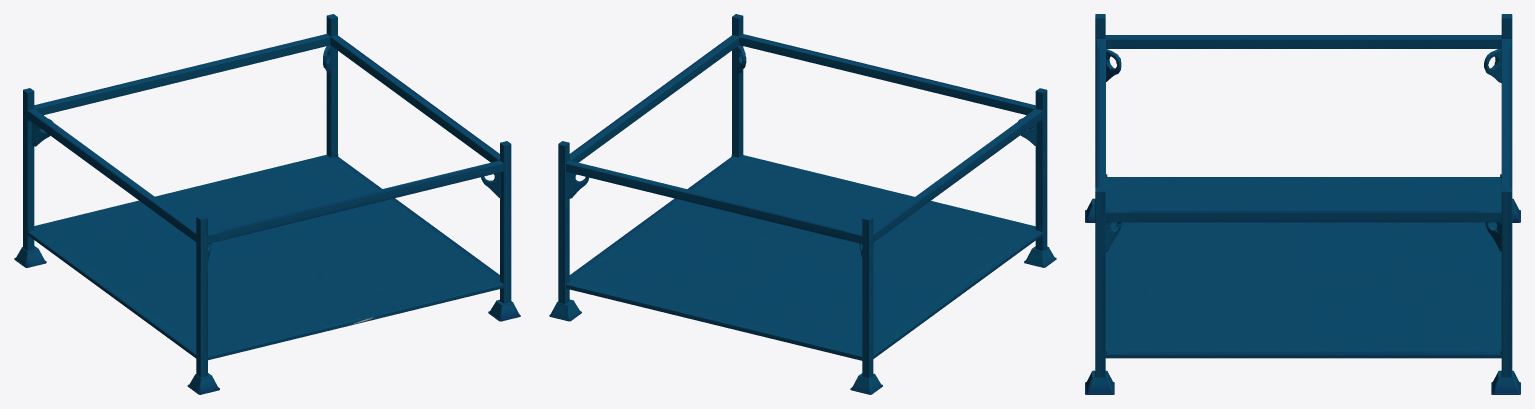
Rendered from Stillage.glb.
The picture shows the model from 3 angles, left to right: view 1: azimuth 30°, elevation 25°; view 2: azimuth 150°, elevation 25°; view 3: azimuth 270°, elevation 25°; orthographic projection. The views are drawn at different scales.
Parts seen in each view (by area): view 1: Stillage; view 2: Stillage; view 3: Stillage.
Part boxes in pixels (x1=…): Stillage: x1=14, y1=14, x2=520, y2=394; Stillage: x1=549, y1=14, x2=1056, y2=394; Stillage: x1=1085, y1=14, x2=1520, y2=394.
Bounding box in the file's own units: 1.5 × 0.7598 × 1.5.
Materials: 1 (1 with a texture image).
